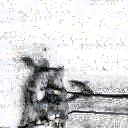crackTip: (14, 81, 126, 128)
